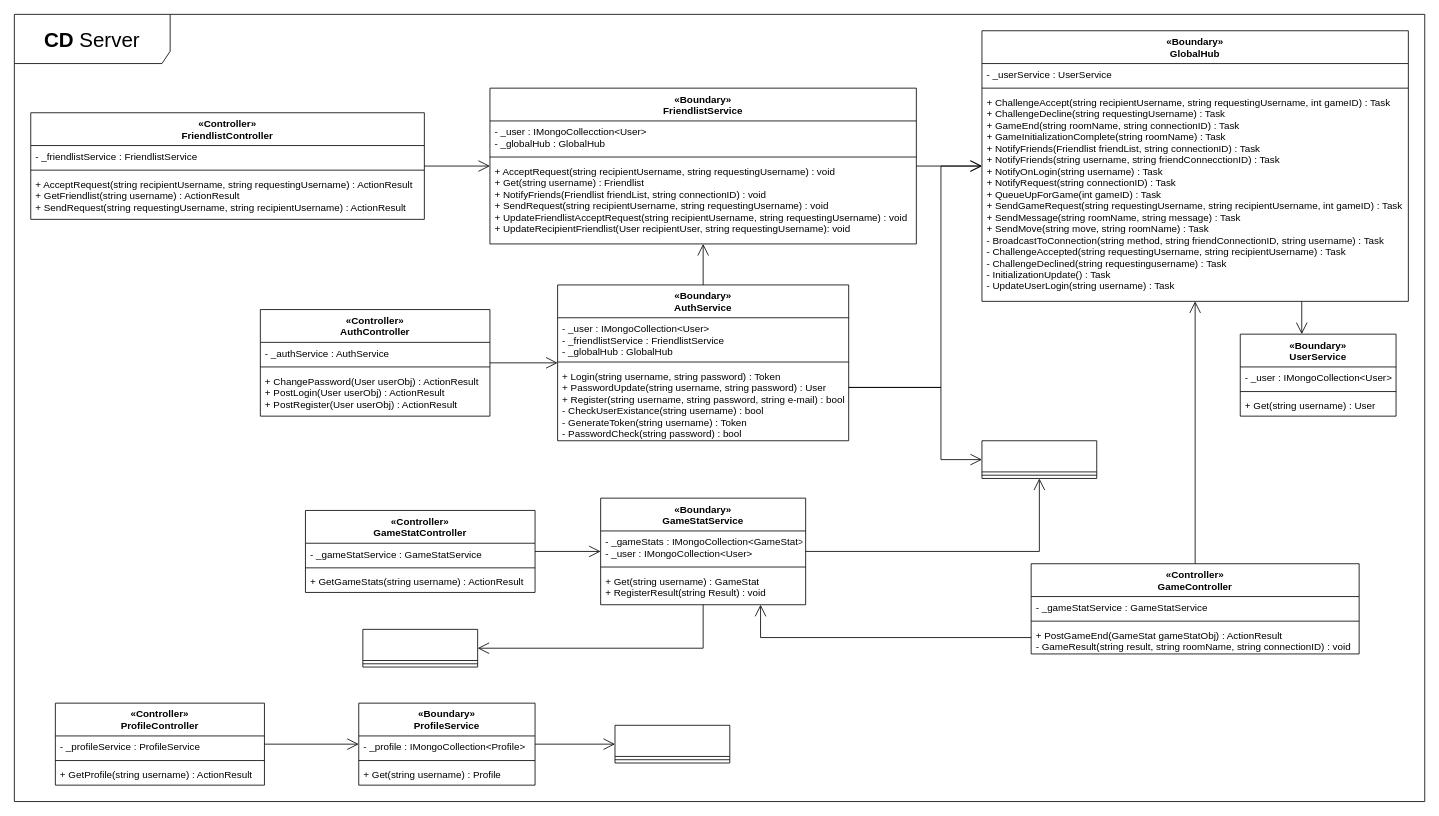
This 1439x816 diagram has some shape labels left out. The shapes that lost their labels are listed below. From the top down, each one's centre as x and y in pixels, then its label:
At (x=1039, y=459): "«Domoain» User".
At (x=420, y=648): "«Domoain» GameStat".
At (x=672, y=743): "«Domoain» Profile".
